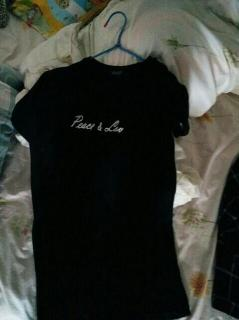short sleeve dress: (10, 53, 192, 319)
